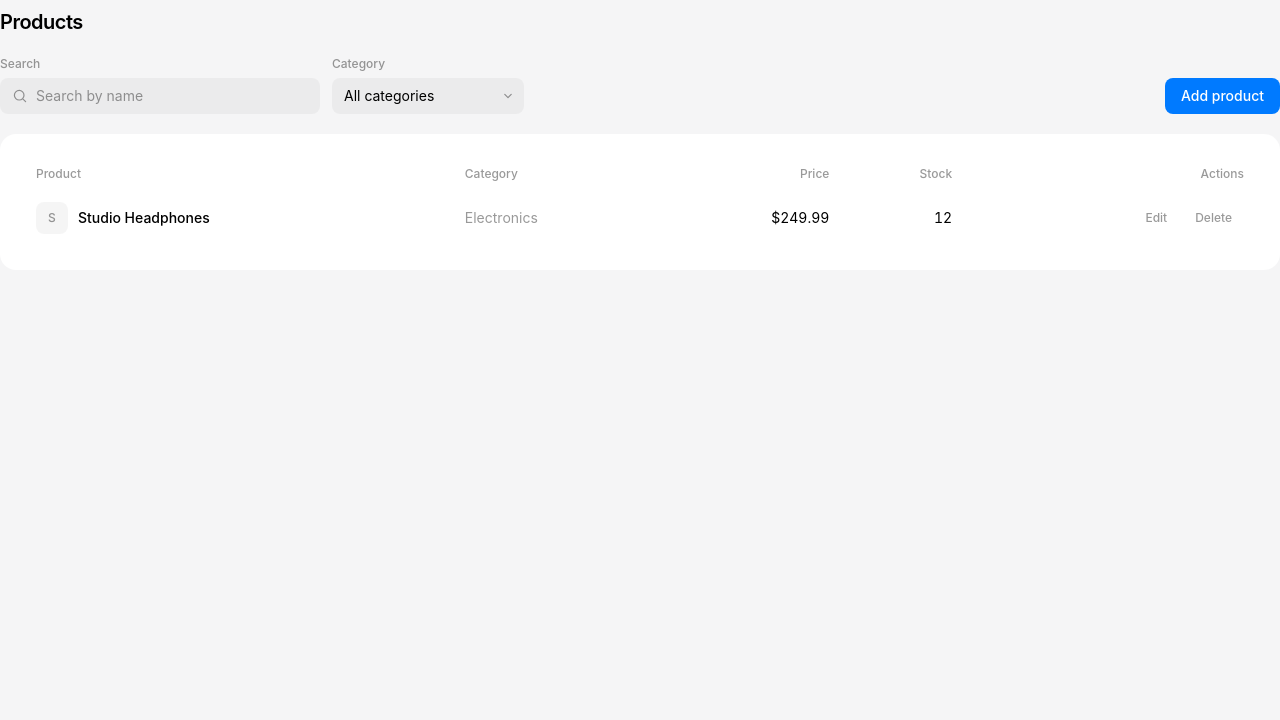
Test case: product CRUD › cancelling the confirmation deletes nothing
Expected: the text "Studio Headphones" is shown, [78,208,210,228]
Click the button with aria-label "Delete Studio Headphones": (1214, 218) [1183,202,1244,234]
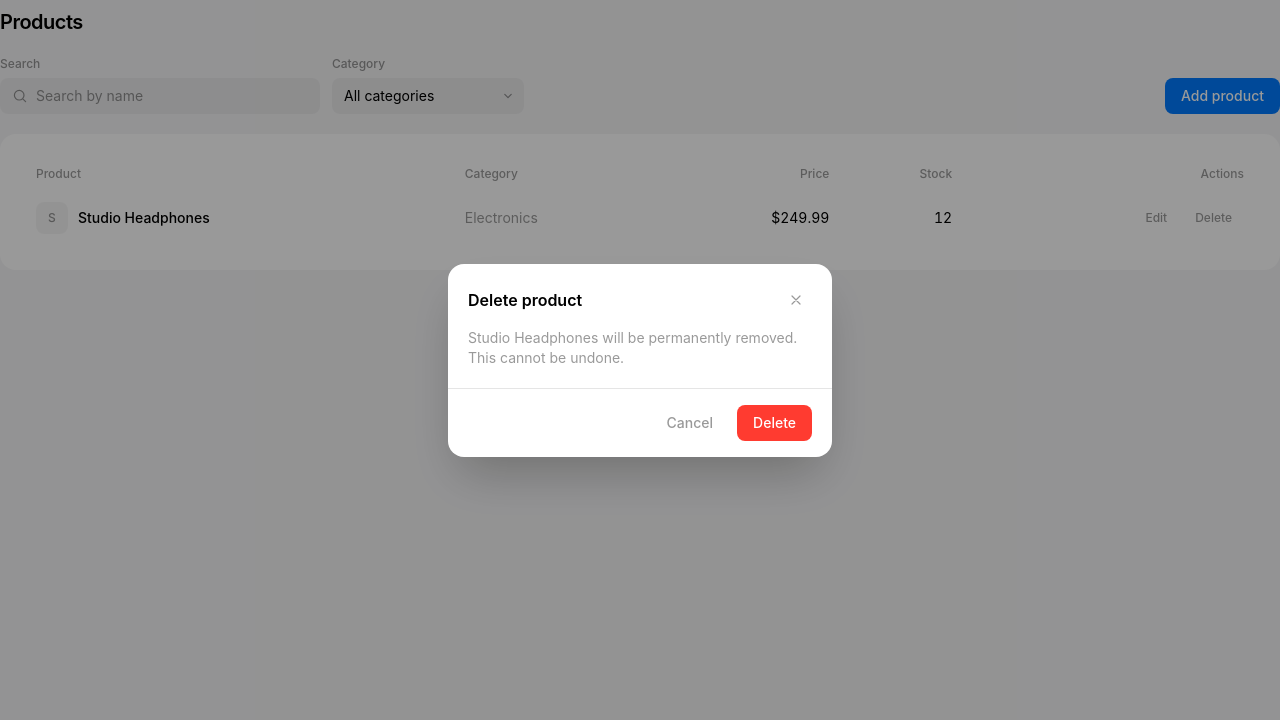
Click the button "Cancel": (690, 422) [651,404,729,440]
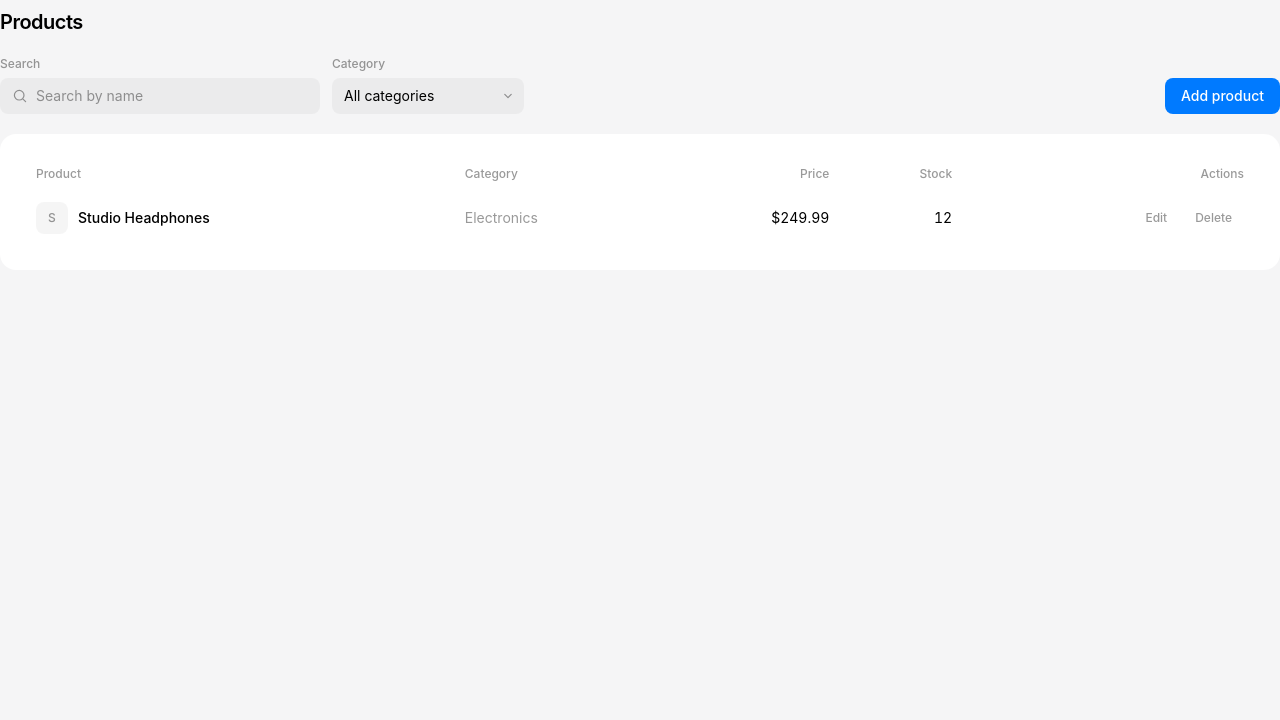
Expected: the dialog is gone
